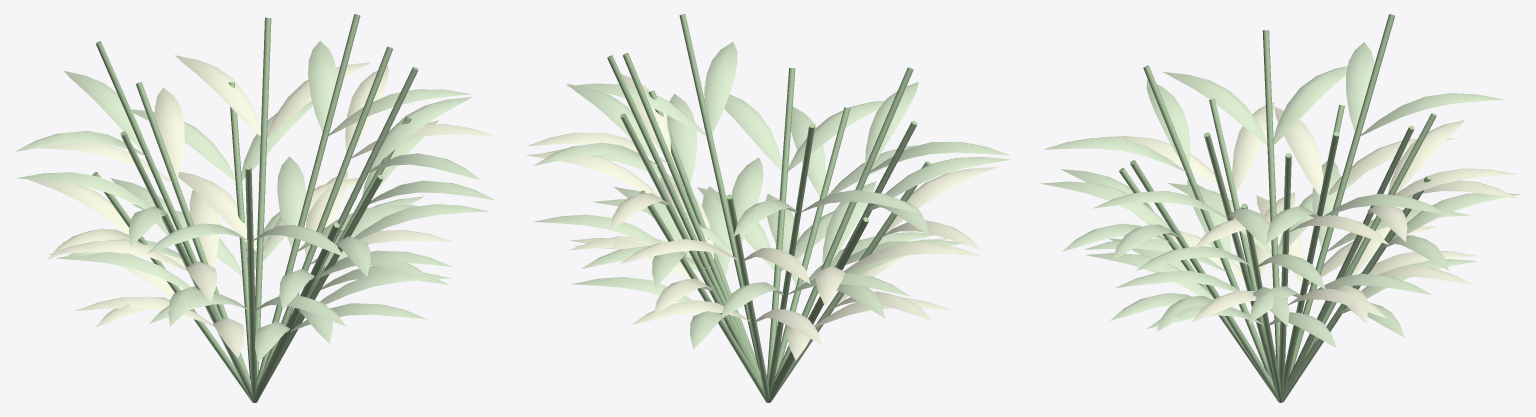
Rendered from SM_WLA_Herb_B.fbx.
The picture shows the model from 3 angles, left to right: view 1: azimuth 30°, elevation 25°; view 2: azimuth 150°, elevation 25°; view 3: azimuth 270°, elevation 25°; orthographic projection.
Visible parts, largest first — view 1: SM_WLA_Herb_B; view 2: SM_WLA_Herb_B; view 3: SM_WLA_Herb_B.
Boxes of the visible parts, box(x1,y1,x2,y2) form: SM_WLA_Herb_B: box(15, 14, 495, 402); SM_WLA_Herb_B: box(525, 14, 1010, 402); SM_WLA_Herb_B: box(1041, 14, 1520, 402).
Bounding box in the file's own units: 0.9067 × 0.9065 × 0.7058.
